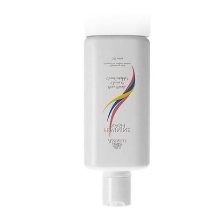book: (77, 30, 154, 210)
